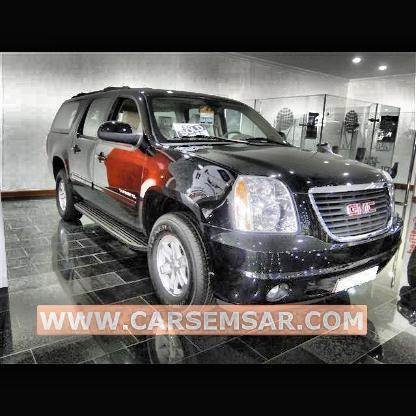GMC Yukon Hybrid SUV 2012: (48, 86, 402, 308)
